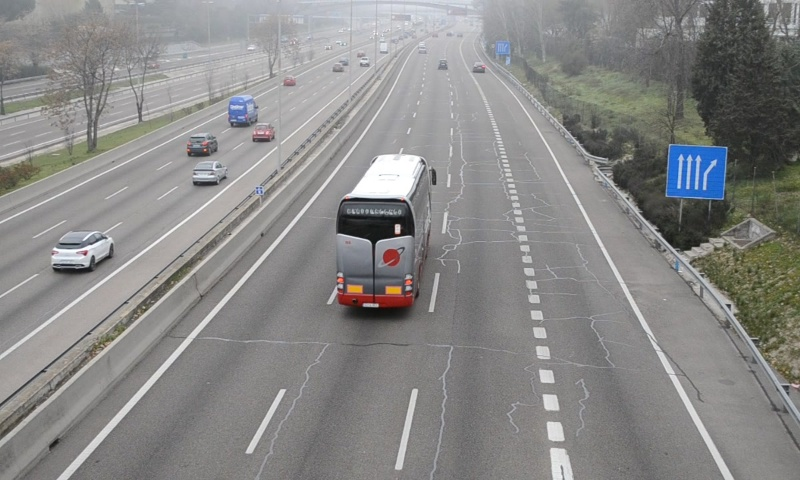bus: (333, 153, 429, 310)
car: (472, 61, 486, 74)
